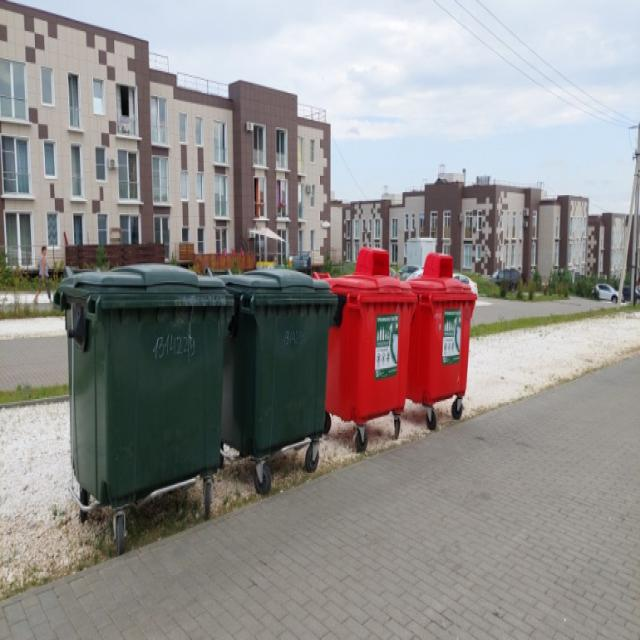bin: (53, 248, 478, 555)
